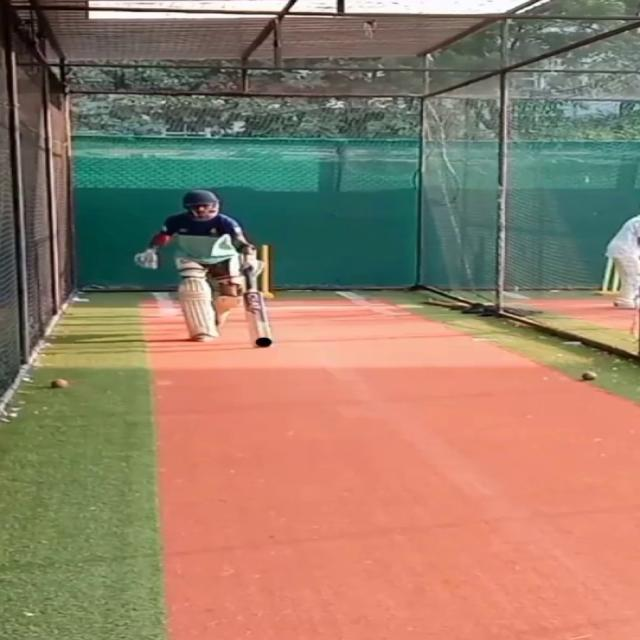ball: (46, 376, 66, 389), (578, 372, 598, 382)
stump: (249, 243, 272, 298)
